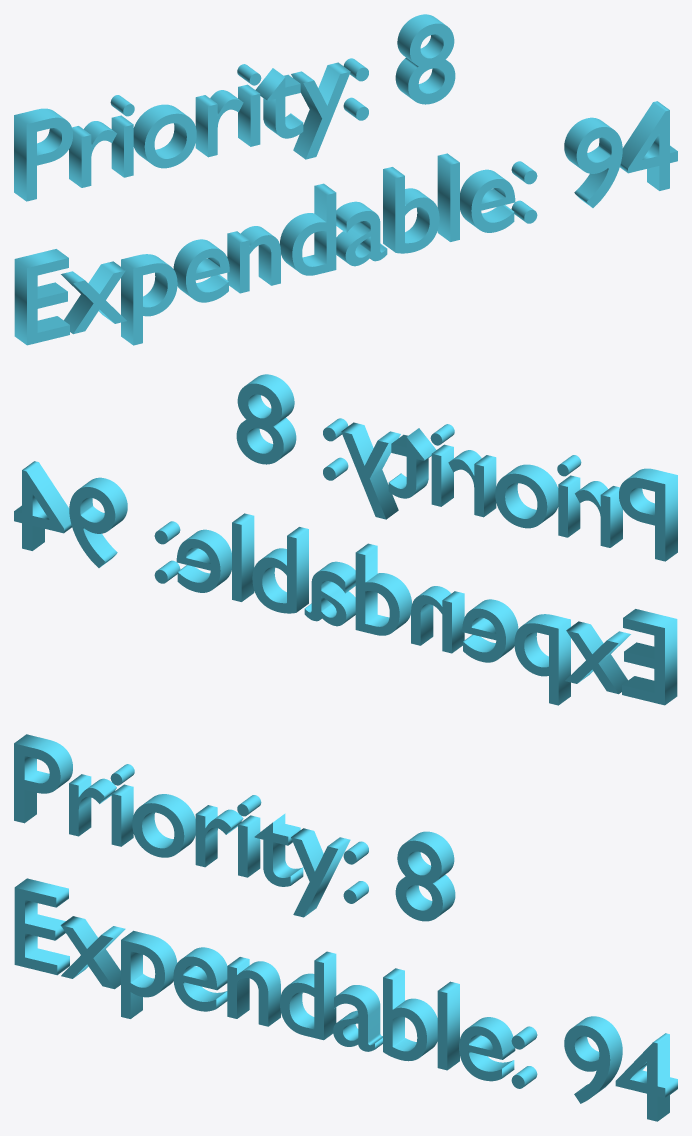
The model's file is console_test_003_result.fbx.
The picture shows the model from 3 angles, top to bottom: view 1: azimuth 30°, elevation 25°; view 2: azimuth 150°, elevation 25°; view 3: azimuth 330°, elevation 25°; orthographic projection.
Visible parts, largest first — view 1: Txt_Test_01.020, Txt_Test_01.021; view 2: Txt_Test_01.020, Txt_Test_01.021; view 3: Txt_Test_01.020, Txt_Test_01.021.
Part boxes in pixels (bbox=[...]): Txt_Test_01.020: bbox=[14, 101, 677, 345]; Txt_Test_01.021: bbox=[14, 14, 455, 201]; Txt_Test_01.020: bbox=[14, 461, 677, 705]; Txt_Test_01.021: bbox=[236, 374, 677, 561]; Txt_Test_01.020: bbox=[14, 878, 677, 1121]; Txt_Test_01.021: bbox=[14, 734, 455, 921].
Size of the model in its own units: 0.8109 by 0.2955 by 0.027.
